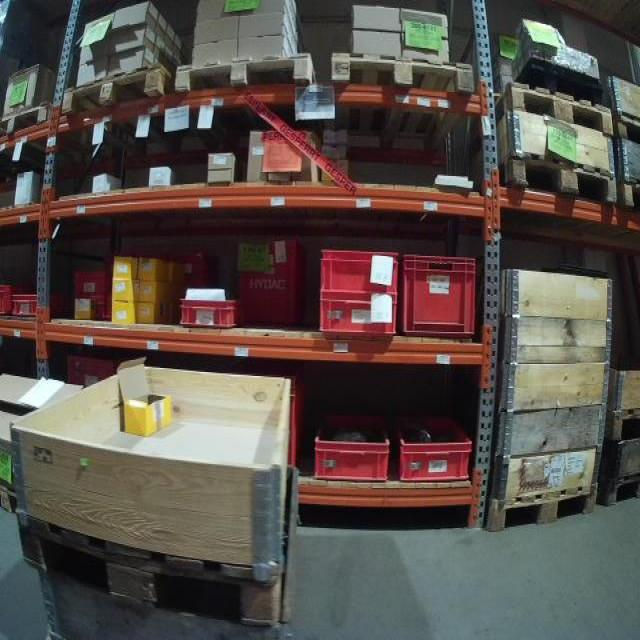pallet: (15, 510, 285, 622), (330, 49, 473, 154), (62, 65, 183, 150), (496, 149, 617, 207), (494, 79, 613, 137), (175, 53, 318, 99), (486, 486, 599, 538), (0, 99, 51, 139), (606, 406, 640, 442), (602, 474, 640, 506), (612, 110, 640, 144), (618, 181, 640, 208), (0, 489, 19, 517)
small_load_carrier: (402, 250, 477, 336), (396, 412, 477, 491), (239, 235, 308, 325), (313, 409, 394, 483), (315, 243, 402, 296), (319, 295, 402, 339), (173, 296, 238, 333), (10, 289, 70, 322), (1, 286, 16, 320)
